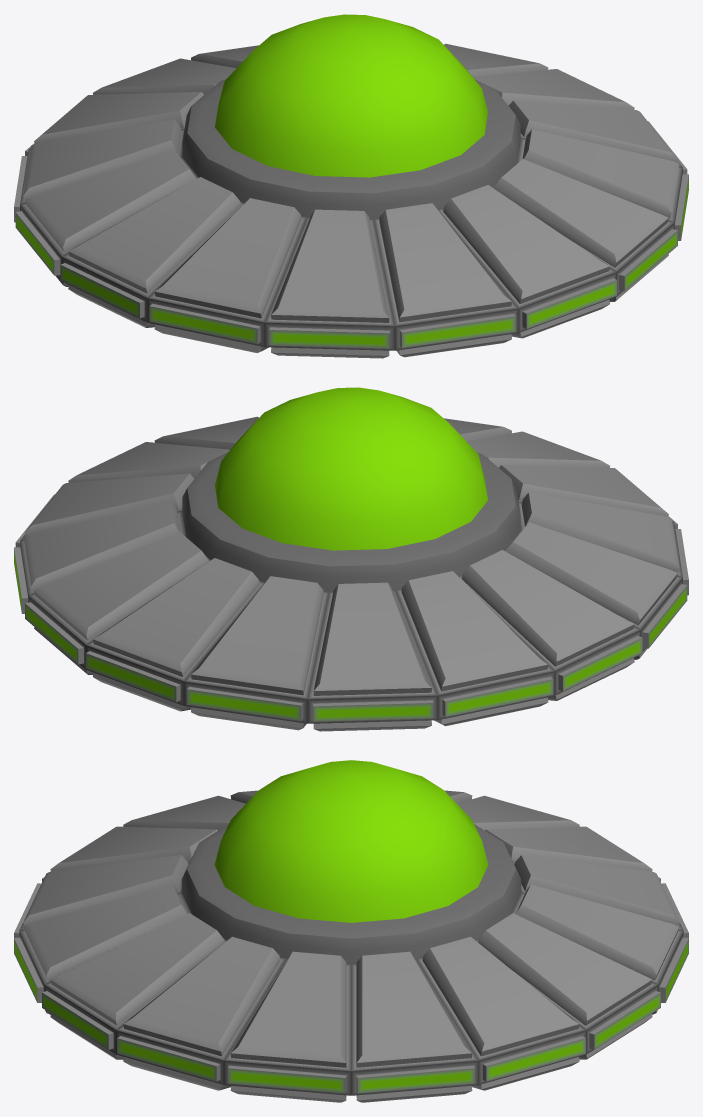
File: enemy_saucer.glb
3 views of the same model, one above another, from view 1: azimuth 30°, elevation 25°; view 2: azimuth 150°, elevation 25°; view 3: azimuth 270°, elevation 25° (orthographic).
Parts seen in each view (by area): view 1: Cylinder; view 2: Cylinder; view 3: Cylinder.
Boxes of the visible parts, x1=… form: Cylinder: x1=14, y1=14, x2=688, y2=358; Cylinder: x1=14, y1=387, x2=688, y2=731; Cylinder: x1=14, y1=760, x2=688, y2=1102.
Bounding box in the file's own units: 9.55 × 3.75 × 9.55.
